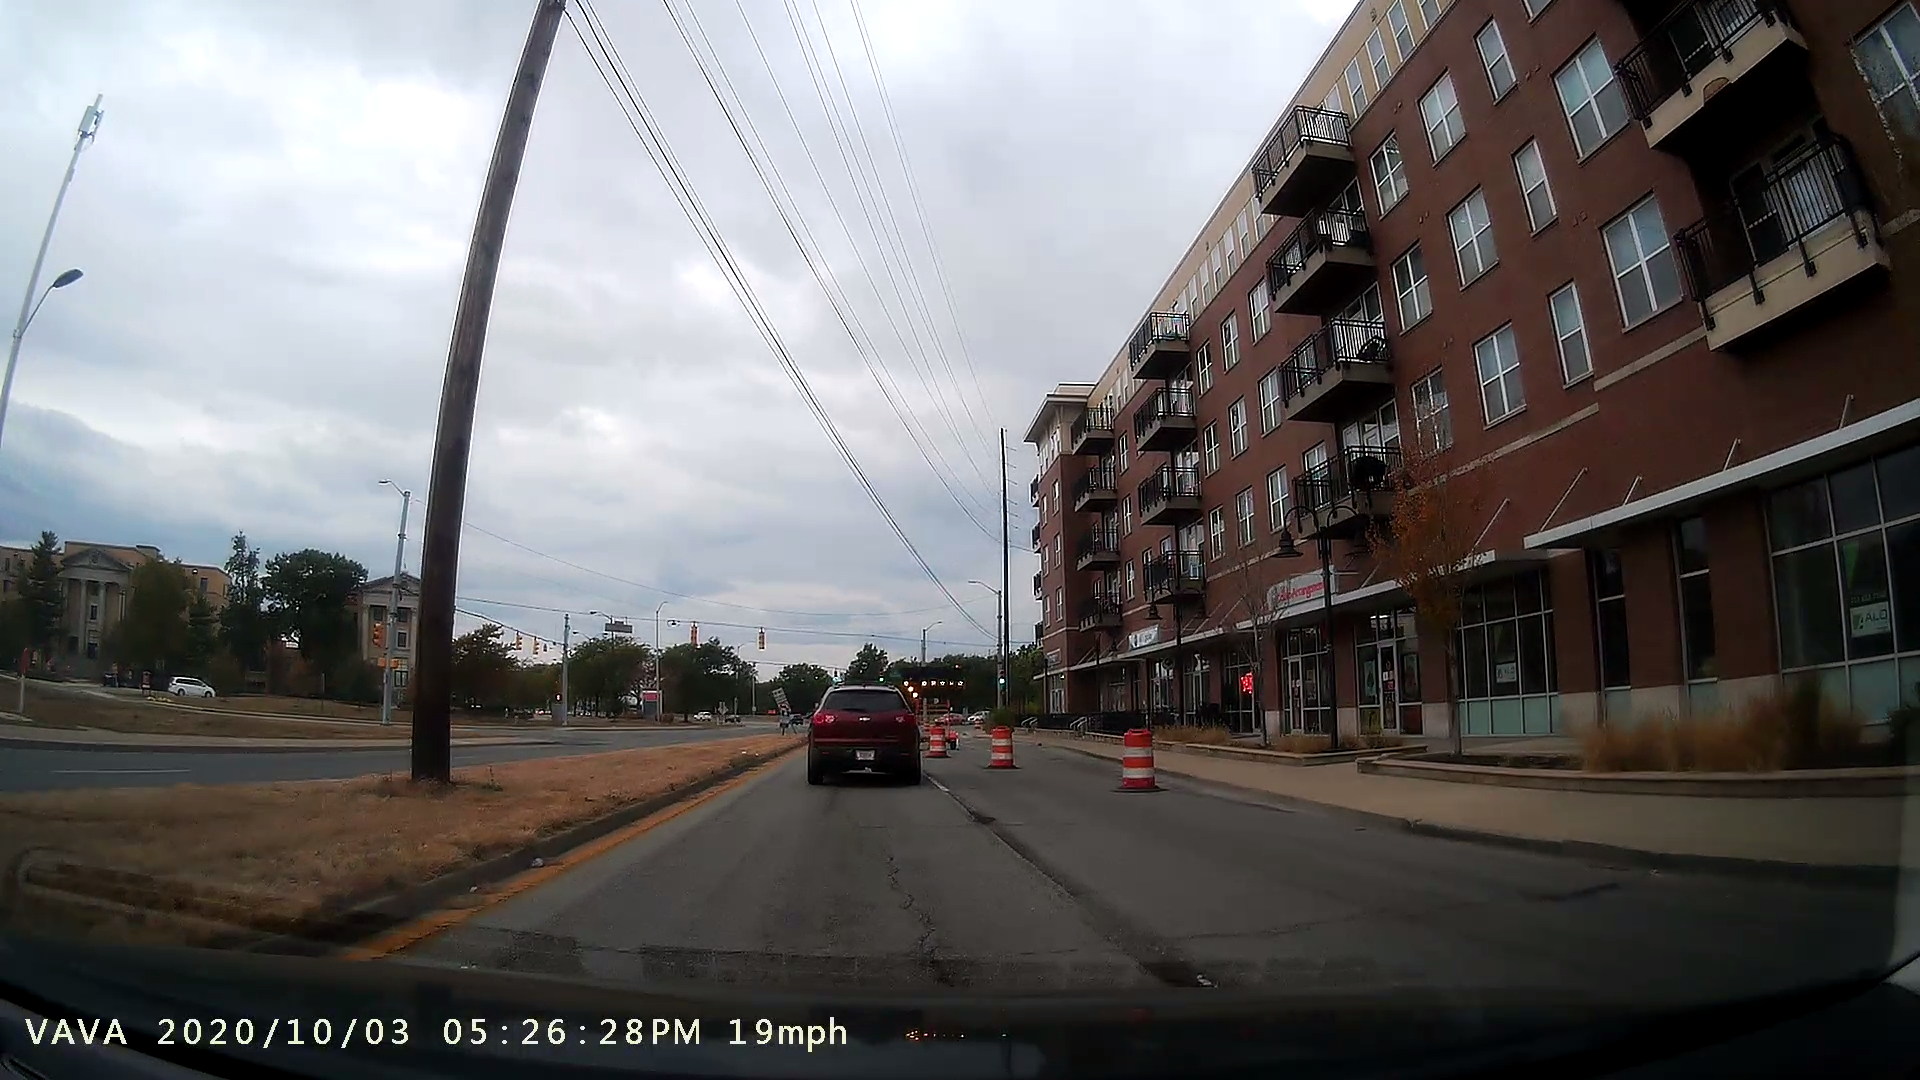const_barrel: (1116, 724, 1164, 798), (978, 717, 1033, 781)
